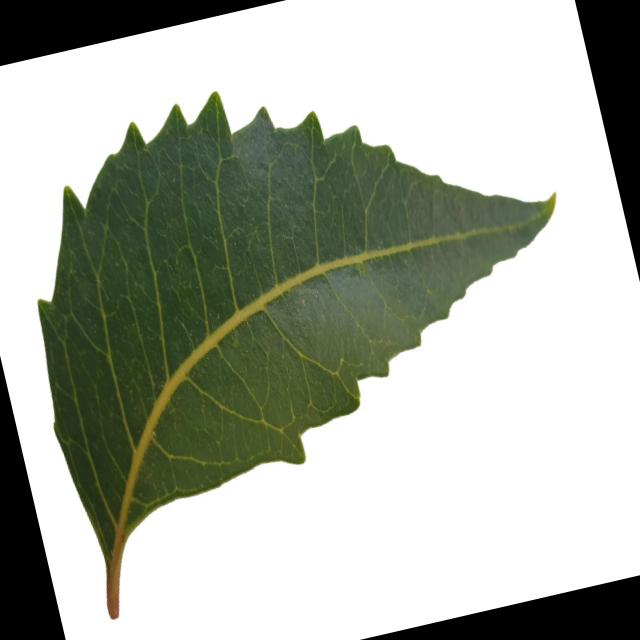Medicinal-Neem: (0, 16, 628, 623)
